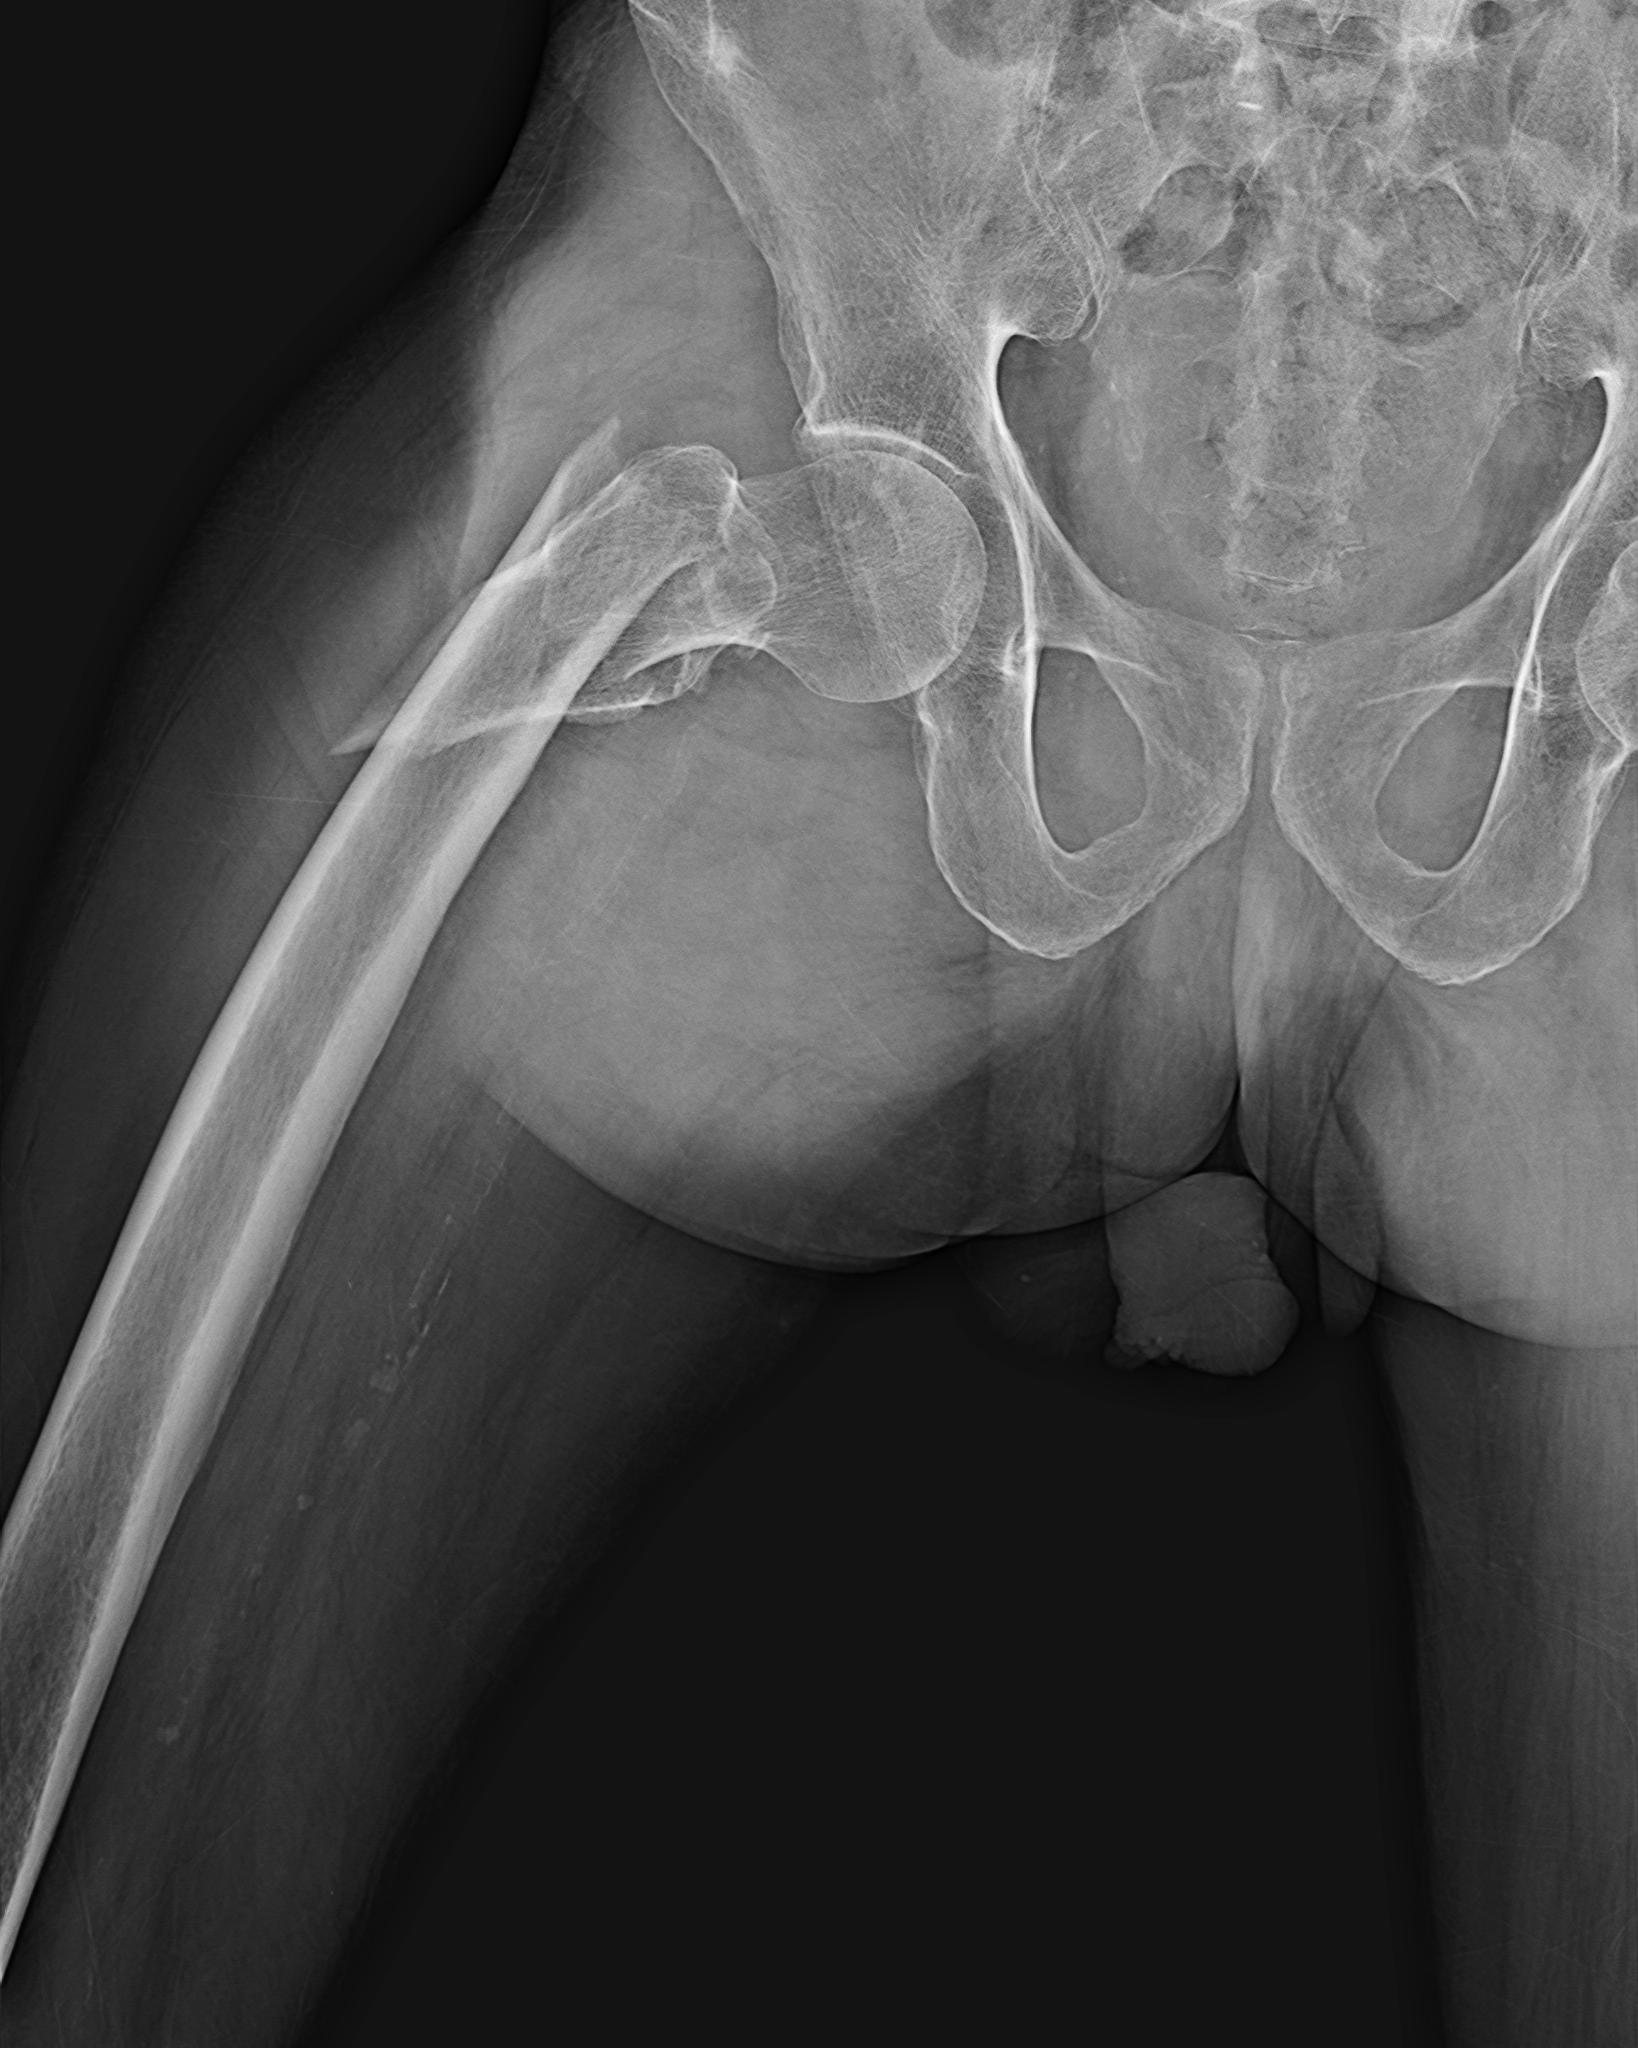fractured: (526, 405, 739, 690), (318, 692, 657, 764)
